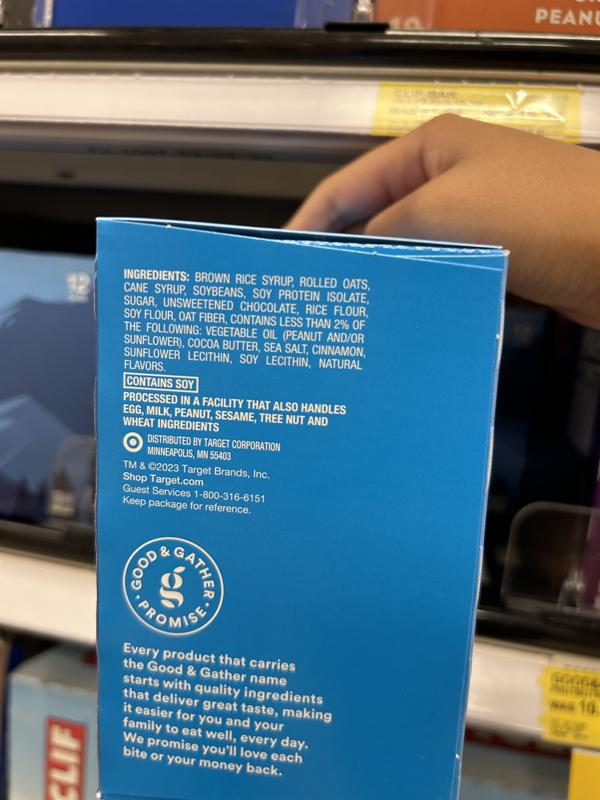ingredients: (120, 267, 370, 373)
